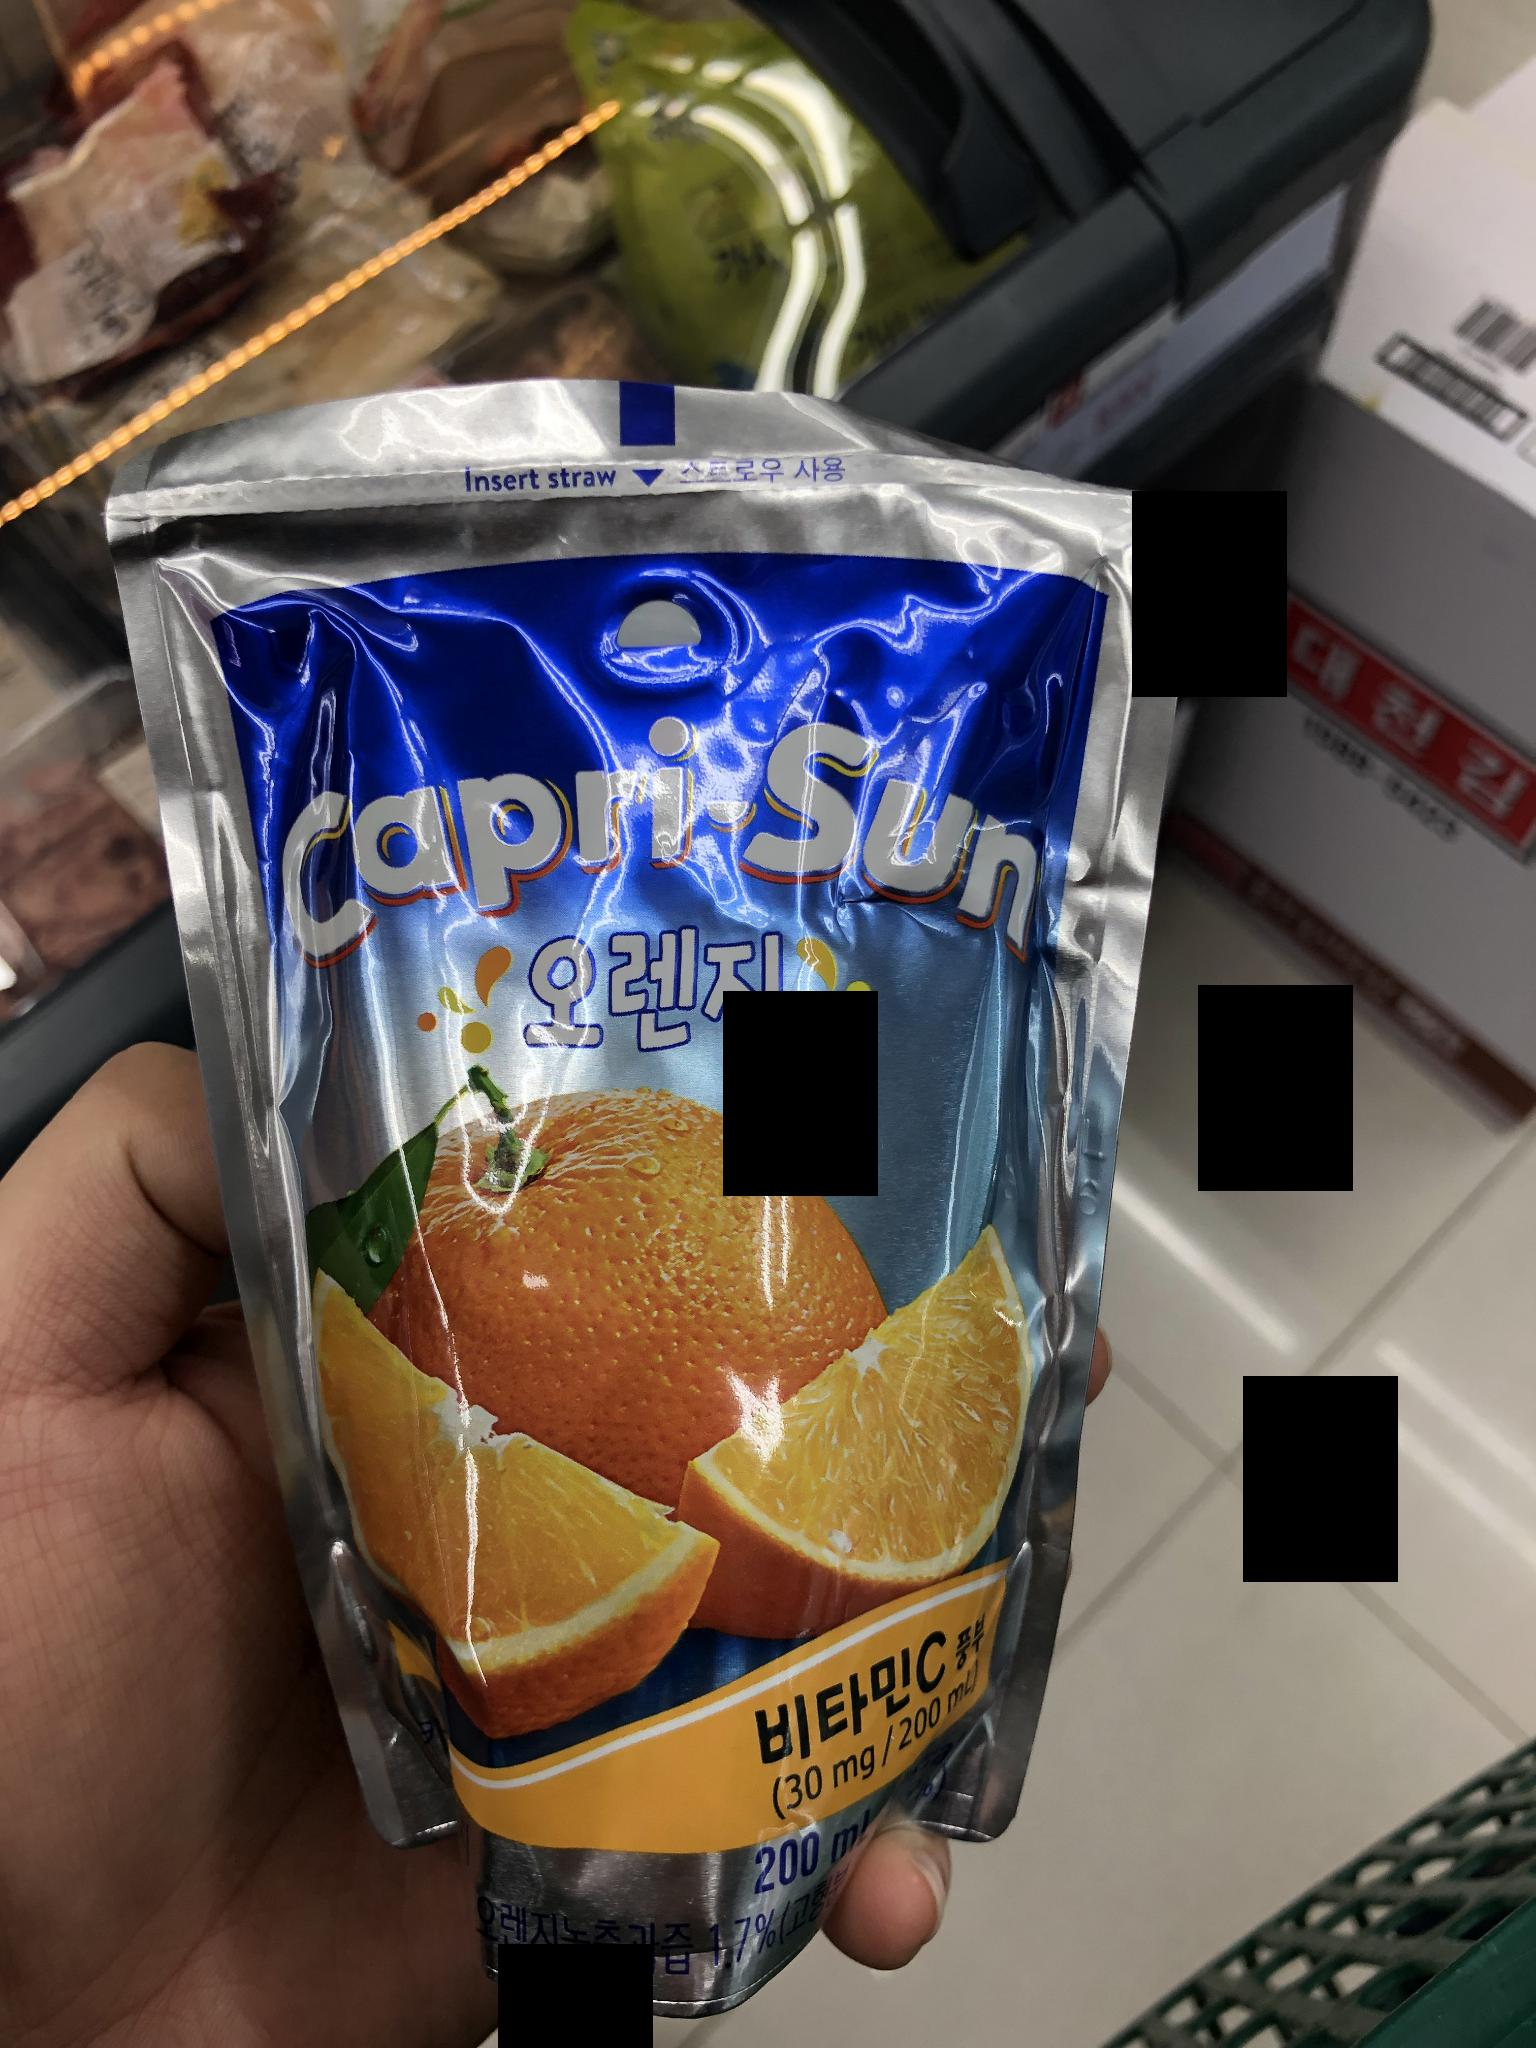cafrisun: (58, 421, 1265, 2046)
